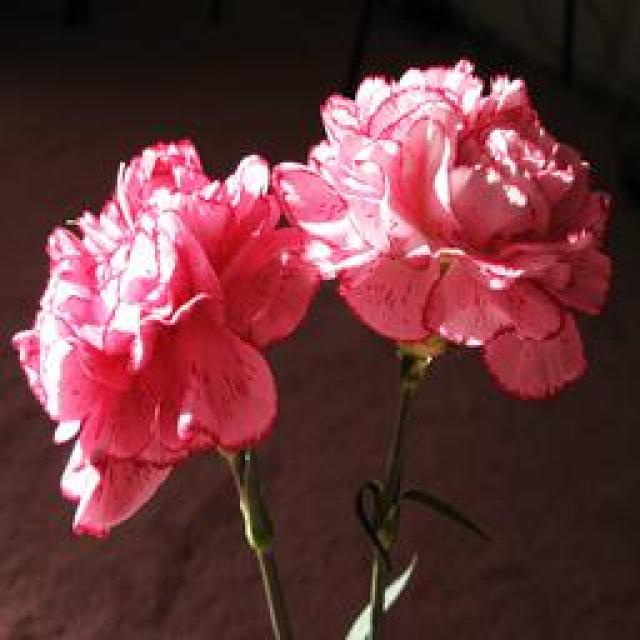carnation: (19, 142, 338, 506)
